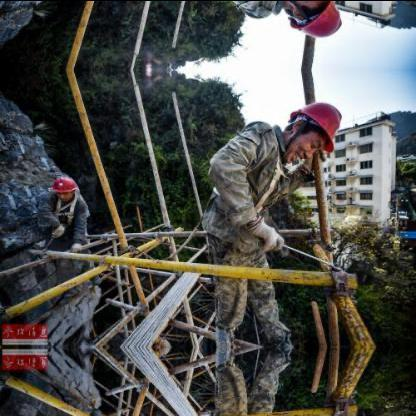Helmet: (279, 91, 347, 167), (278, 0, 348, 46), (50, 172, 76, 200)
